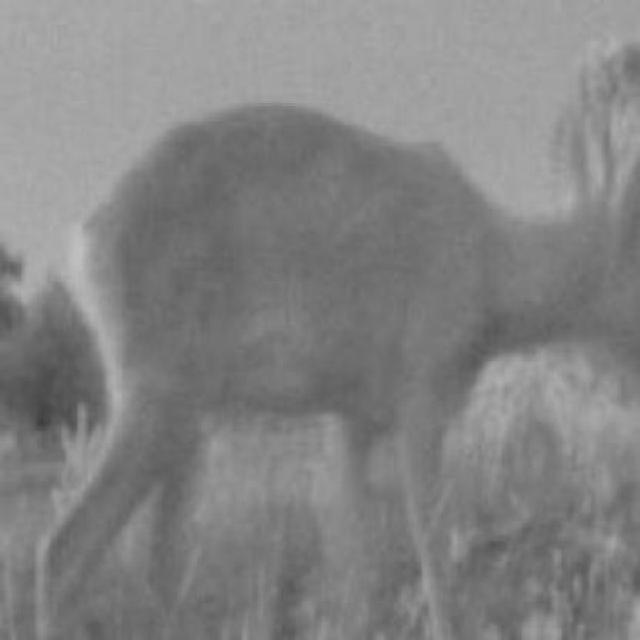Deer: (36, 100, 638, 637)
